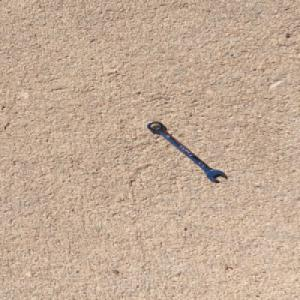Wrench: (145, 120, 227, 182)
